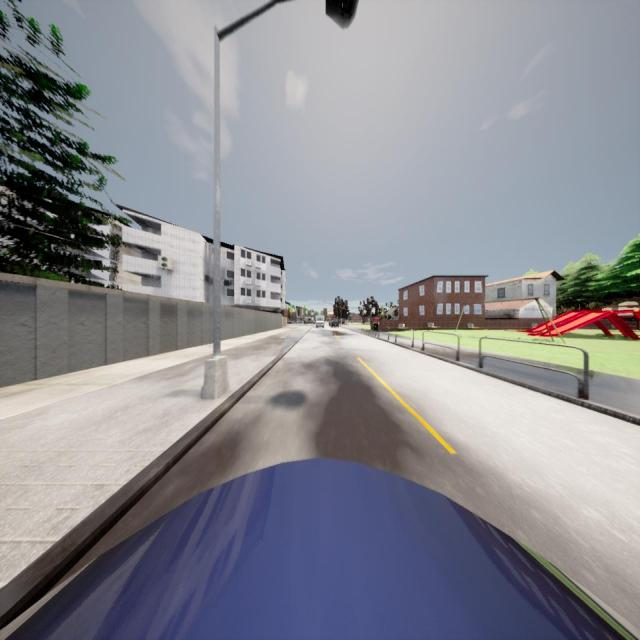Vehicle: (0, 457, 640, 640), (316, 315, 324, 329), (304, 317, 315, 325), (330, 320, 339, 328), (288, 319, 296, 324)
